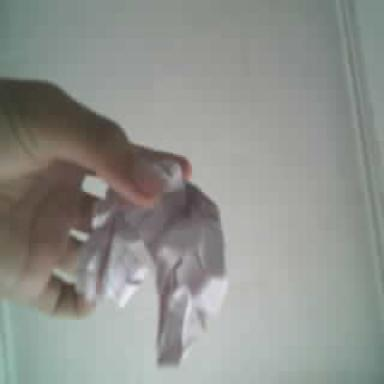paper: (76, 157, 227, 365)
